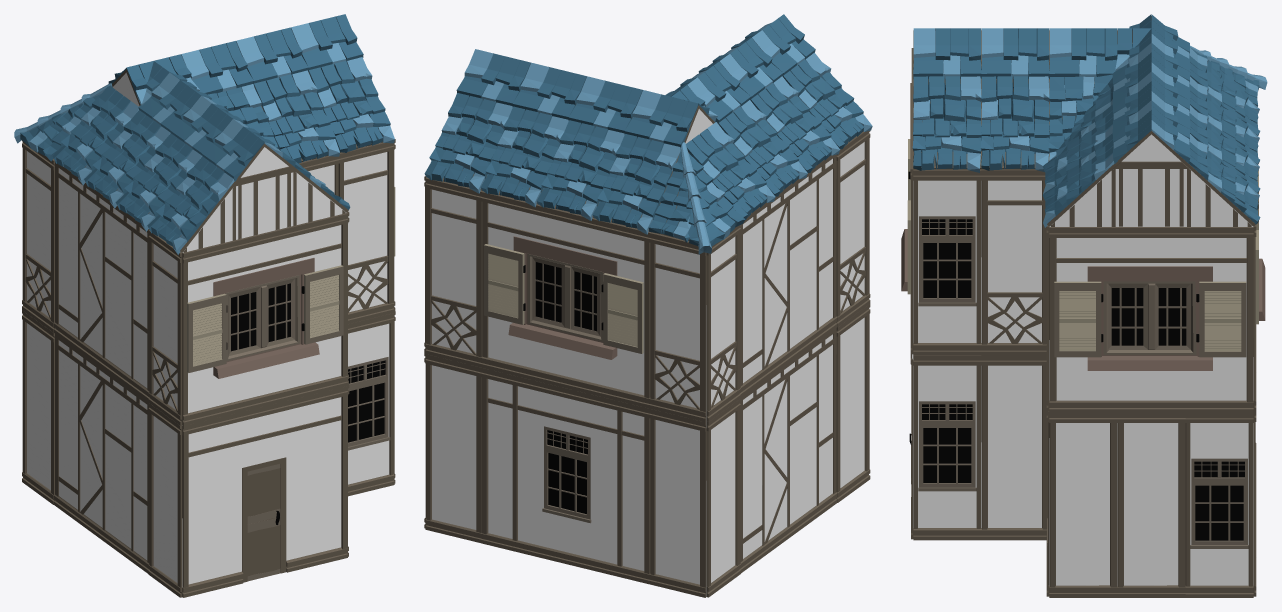
The model's file is House_12_full.fbx.
The picture shows the model from 3 angles, left to right: view 1: azimuth 30°, elevation 25°; view 2: azimuth 150°, elevation 25°; view 3: azimuth 270°, elevation 25°; orthographic projection. The views are drawn at different scales.
Parts seen in each view (by area): view 1: WINDOW_06_2, DOOR_05_2, WALL_05_3, WALL_05_2, WALL_04_4, WINDOW_04_4, WALL_04_8, WALL_03_10, WALL_03_9, WALL_04_7, ROOF_base_6, ROOF_base_5 (+20 smaller); view 2: WINDOW_06_4, WINDOW_03_2, WALL_05_2, WALL_05_3, WALL_04_5, WALL_03_8, WALL_04_6, WALL_03_7, WALL_03_9, WALL_04_7, WALL_04_8, WALL_03_10 (+16 smaller); view 3: WINDOW_06_3, WINDOW_04_6, WINDOW_04_3, WALL_03_5, WALL_03_6, WINDOW_04_5, WALL_03_3, WALL_04_3, ROOF_base_3, ROOF_base_4, ROOF_up_quad_3, ROOF_inner_corner_3 (+28 smaller).
Part boxes in pixels (x1,y1,x2,y2): WINDOW_06_2: [182, 213, 348, 425]; DOOR_05_2: [182, 386, 348, 597]; WALL_05_3: [54, 161, 149, 401]; WALL_05_2: [54, 334, 149, 573]; WALL_04_4: [338, 142, 394, 323]; WINDOW_04_4: [348, 313, 394, 496]; WALL_04_8: [148, 230, 182, 425]; WALL_03_10: [148, 402, 182, 597]; WALL_03_9: [22, 310, 55, 504]; WALL_04_7: [22, 141, 55, 332]; ROOF_base_6: [308, 57, 394, 152]; ROOF_base_5: [254, 70, 339, 163]; WINDOW_06_4: [481, 191, 650, 408]; WINDOW_03_2: [481, 367, 650, 584]; WALL_05_2: [739, 328, 837, 573]; WALL_05_3: [739, 154, 837, 397]; WALL_04_5: [425, 177, 482, 367]; WALL_03_8: [649, 408, 706, 597]; WALL_04_6: [649, 232, 706, 421]; WALL_03_7: [425, 354, 481, 542]; WALL_03_9: [706, 398, 740, 597]; WALL_04_7: [706, 225, 740, 421]; WALL_04_8: [836, 131, 870, 326]; WALL_03_10: [836, 304, 870, 502]; WINDOW_06_3: [1049, 226, 1253, 412]; WINDOW_04_6: [913, 169, 981, 355]; WINDOW_04_3: [913, 355, 981, 540]; WALL_03_5: [1049, 413, 1117, 597]; WALL_03_6: [1117, 413, 1185, 597]; WINDOW_04_5: [1185, 413, 1253, 597]; WALL_03_3: [981, 355, 1047, 540]; WALL_04_3: [981, 169, 1047, 355]; ROOF_base_3: [912, 76, 981, 172]; ROOF_base_4: [980, 74, 1049, 172]; ROOF_up_quad_3: [1117, 169, 1185, 226]; ROOF_inner_corner_3: [1048, 74, 1113, 160].
Size of the model in its own units: 531 by 759 by 538.
